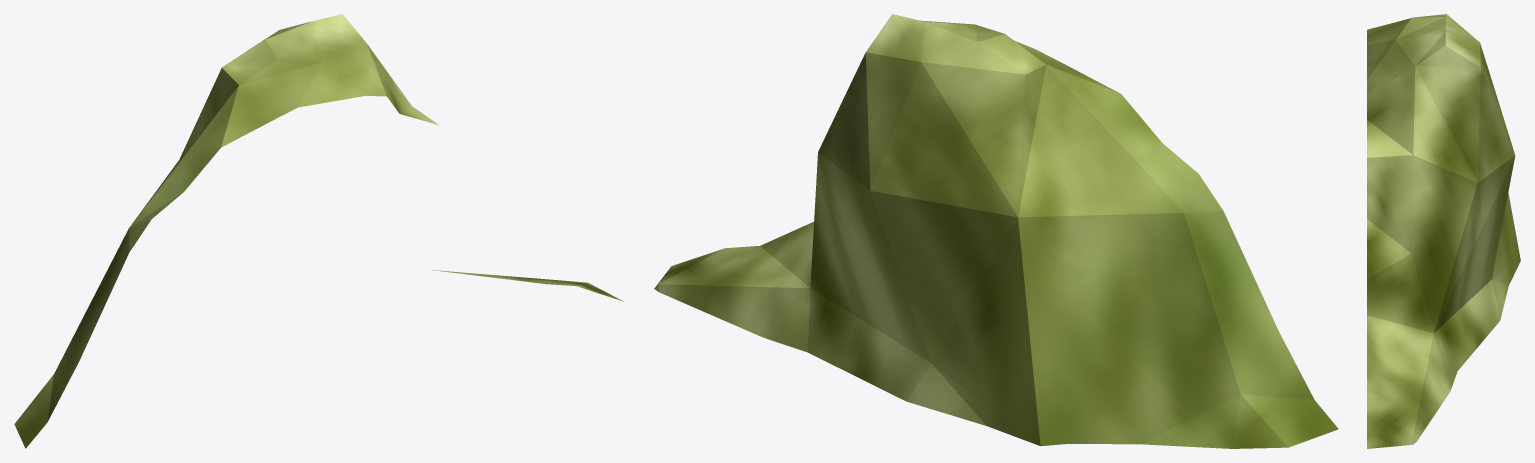
3 views of the same model, side by side, from view 1: azimuth 30°, elevation 25°; view 2: azimuth 150°, elevation 25°; view 3: azimuth 270°, elevation 25° (orthographic). The views are drawn at different scales.
Size of the model in its own units: 0.7727 by 0.3896 by 0.1845.
1 material, 1 textured.
